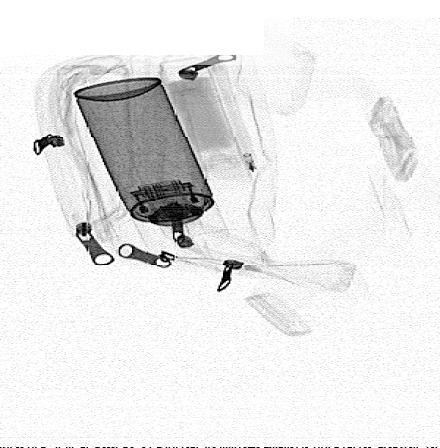Sprayer: (73, 77, 229, 251)
